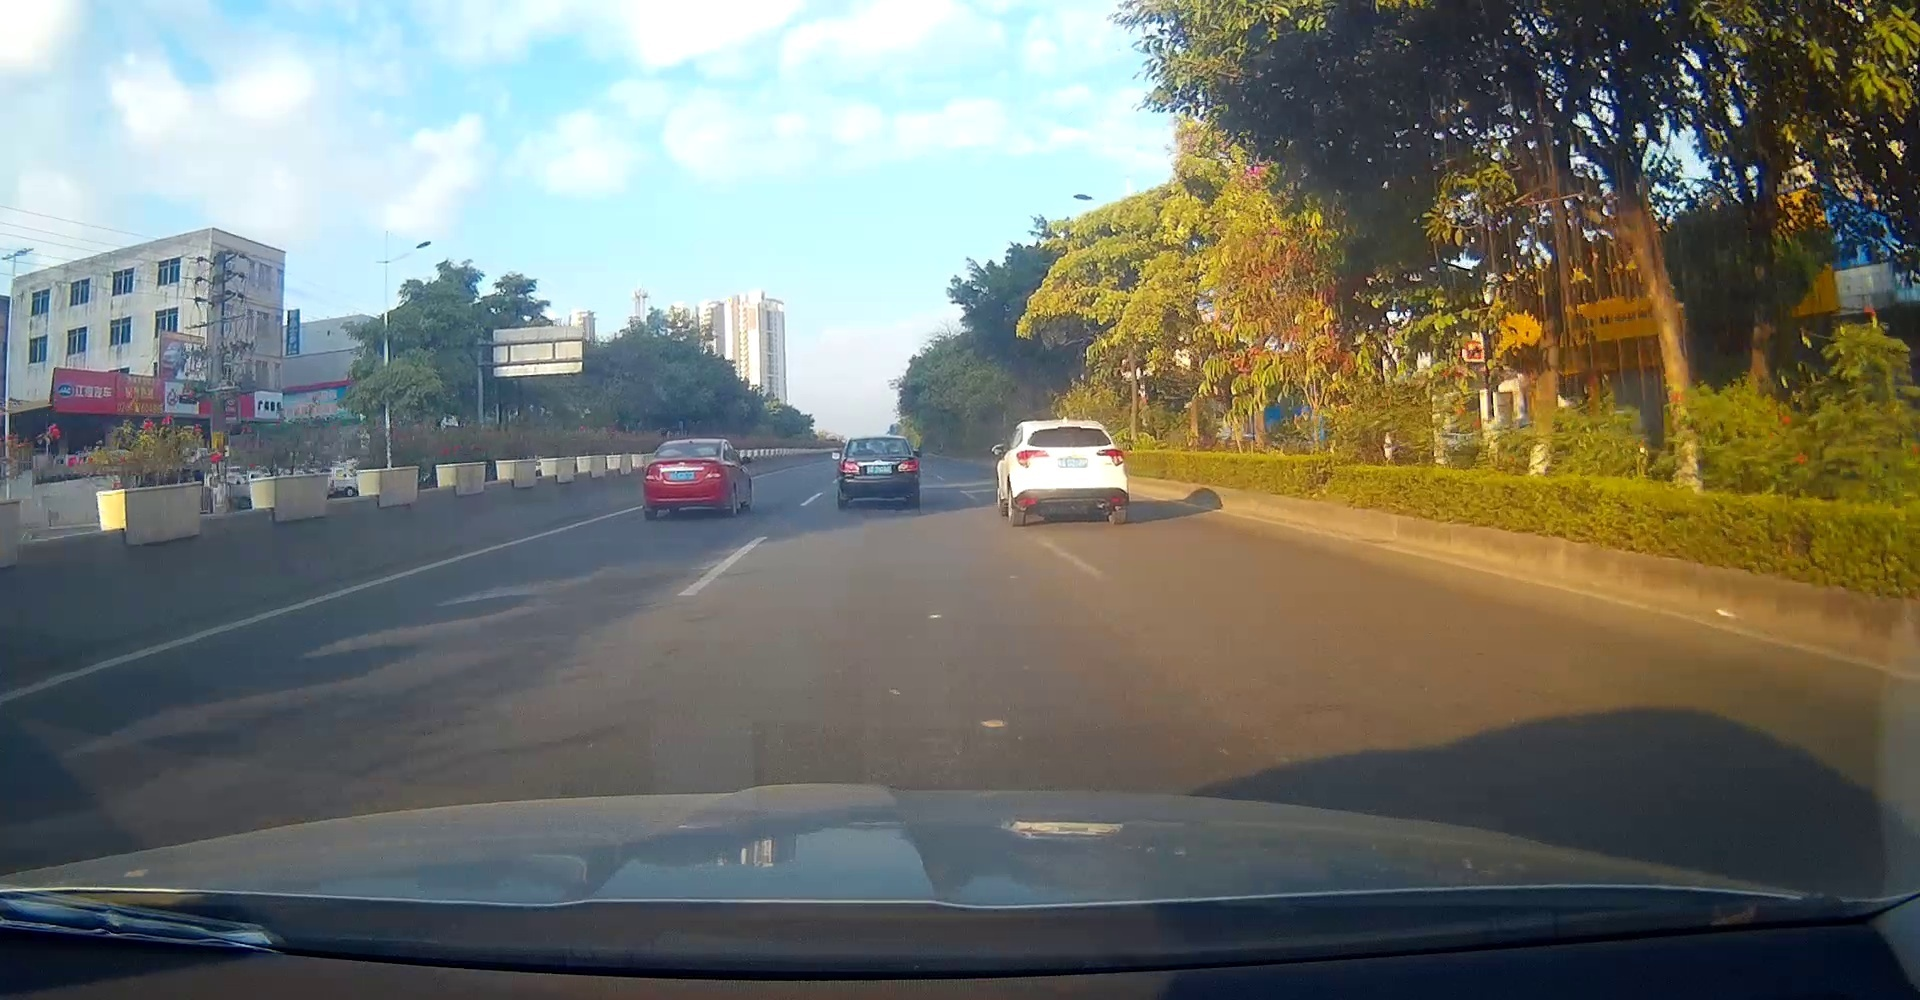L_light: (1017, 449, 1050, 470), (841, 461, 860, 475), (645, 468, 662, 482)
R_light: (1096, 449, 1125, 467), (897, 459, 918, 472), (703, 467, 723, 478)
T_light: (1058, 426, 1082, 430), (682, 443, 698, 447), (870, 439, 884, 442)
day-no: (1013, 420, 1128, 527), (643, 439, 726, 522), (839, 434, 919, 508)
